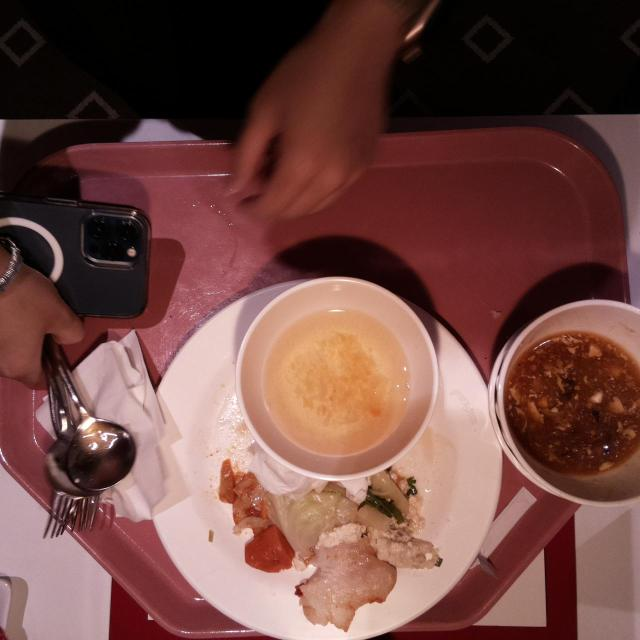Fish: (300, 543, 396, 631)
Vegetable: (361, 492, 403, 520)
